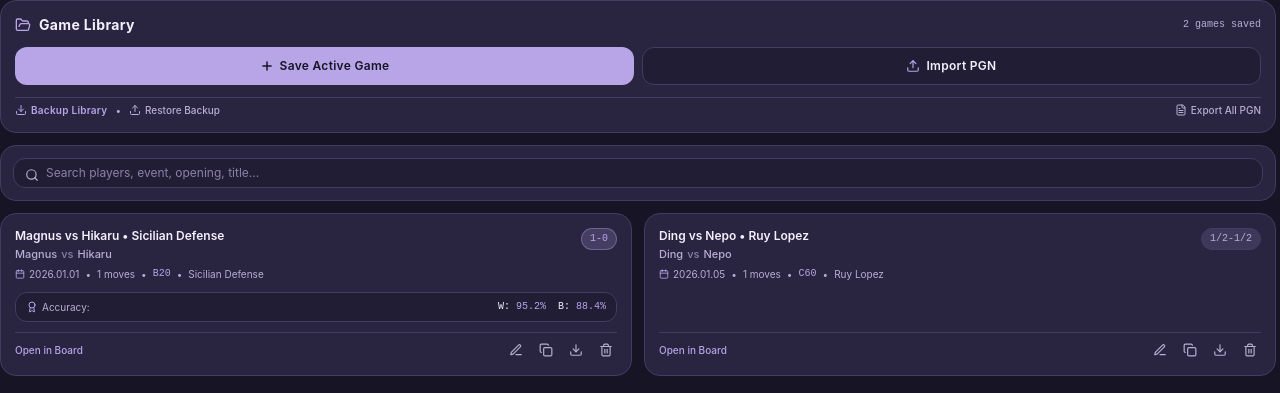
Test: GameLibraryView › filters games by search query
In the field with placeholder "Search players, event, opening, title...": (638, 173) [13,158,1263,188], type "Ding"
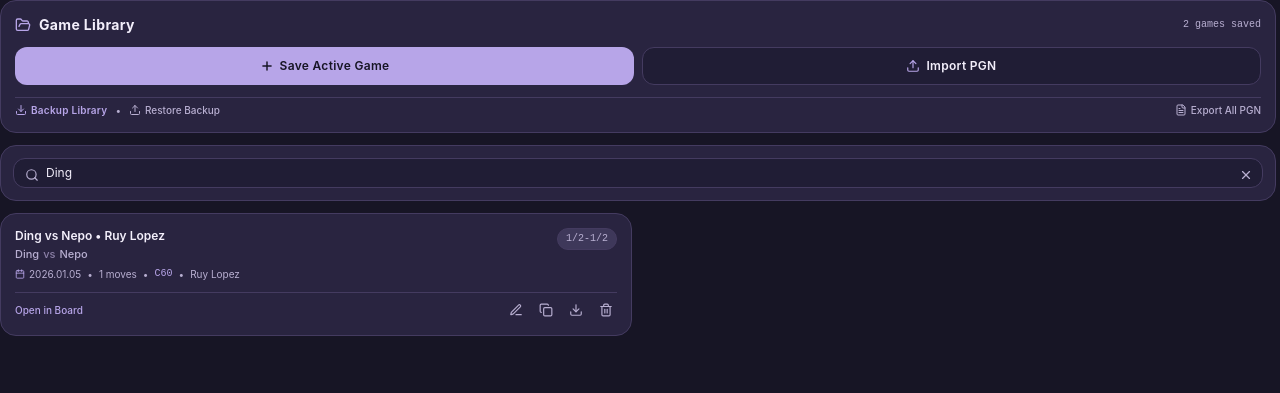
expect the heading "Ding vs Nepo • Ruy Lopez" is shown: met, box [15,228,165,243]
expect the heading "Magnus vs Hikaru" is gone: met
